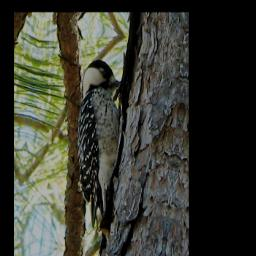Woodpecker: (64, 54, 131, 237)
